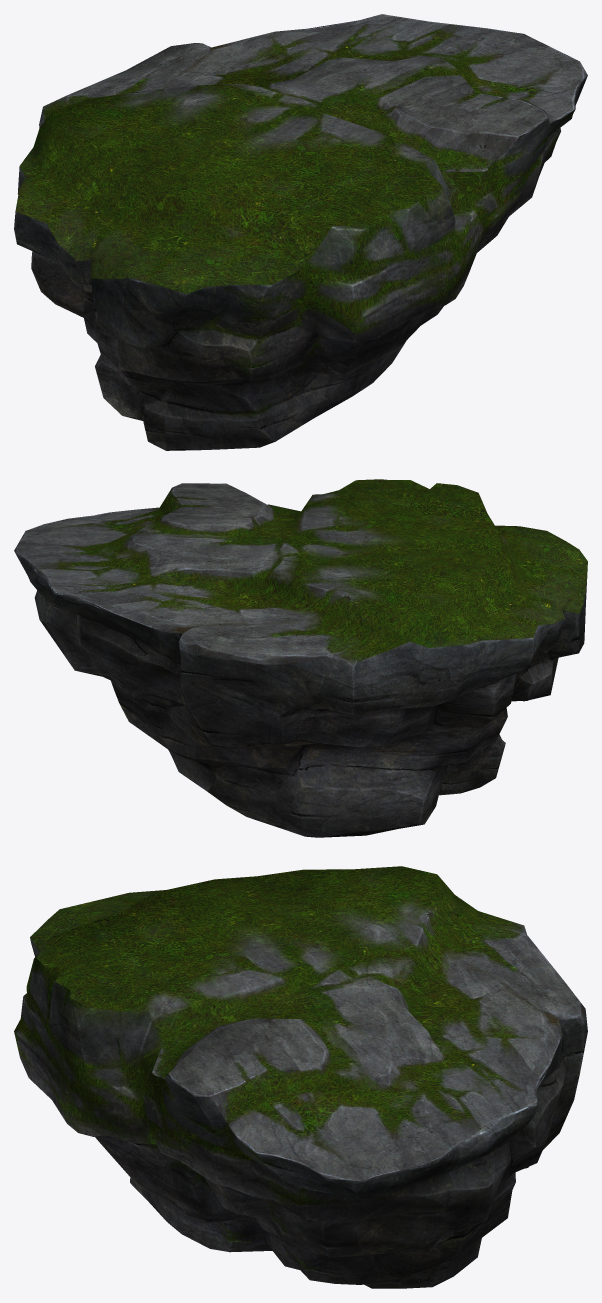
Rendered from Rock03.obj.
The picture shows the model from 3 angles, top to bottom: view 1: azimuth 30°, elevation 25°; view 2: azimuth 150°, elevation 25°; view 3: azimuth 270°, elevation 25°; orthographic projection. The views are drawn at different scales.
Parts seen in each view (by area): view 1: Mesh_0091, Mesh_0090; view 2: Mesh_0091, Mesh_0090; view 3: Mesh_0091, Mesh_0090.
Part boxes in pixels (<box>): Mesh_0091: <box>15,14,587,293</box>; Mesh_0090: <box>14,76,587,450</box>; Mesh_0091: <box>14,479,587,664</box>; Mesh_0090: <box>14,551,587,837</box>; Mesh_0091: <box>30,866,585,1180</box>; Mesh_0090: <box>14,928,587,1288</box>.
Size of the model in its own units: 3200 by 1566 by 2529.
